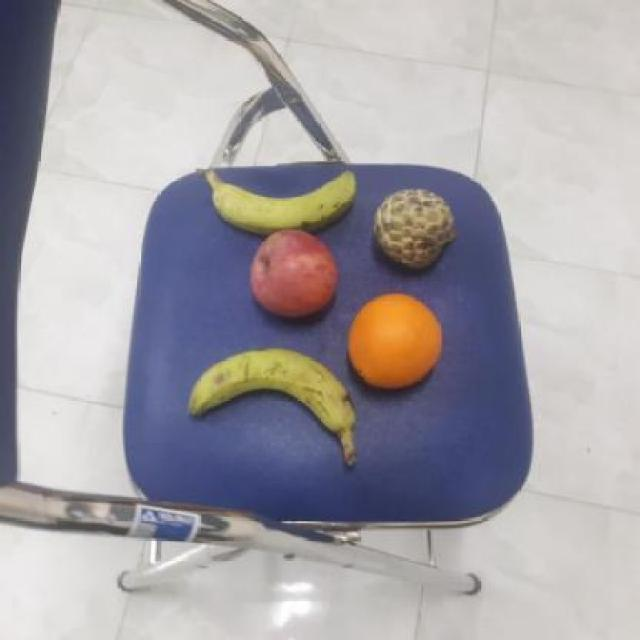apple: (244, 227, 344, 321)
banana: (186, 343, 357, 437), (208, 168, 357, 232)
oren: (341, 291, 444, 391)
sugar apple: (369, 184, 458, 274)
